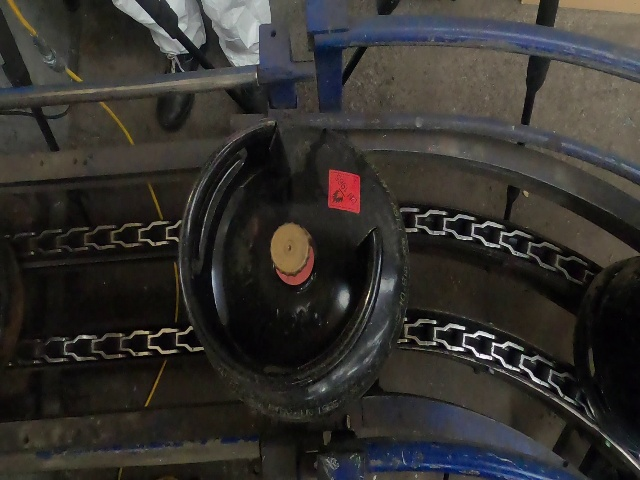gas_bottle: (0, 0, 631, 475)
